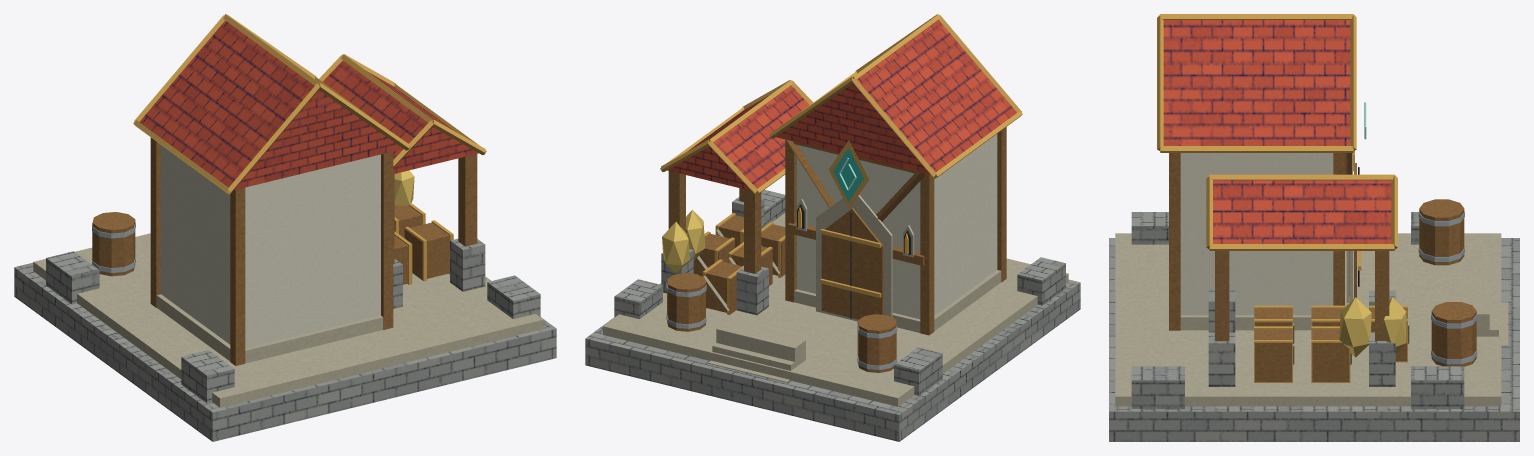
File: Warehouse_1.fbx
3 renders of one model, left to right at view 1: azimuth 30°, elevation 25°; view 2: azimuth 150°, elevation 25°; view 3: azimuth 270°, elevation 25°, orthographic. The views are drawn at different scales.
Visible parts, largest first — view 1: Warehouse_1; view 2: Warehouse_1; view 3: Warehouse_1.
Boxes of the visible parts, box(x1,y1,x2,y2) form: Warehouse_1: box(14, 14, 556, 441); Warehouse_1: box(585, 14, 1080, 441); Warehouse_1: box(1109, 14, 1519, 441).
Size of the model in its own units: 1 by 0.86 by 1.
Materials: 1 (1 with a texture image).
